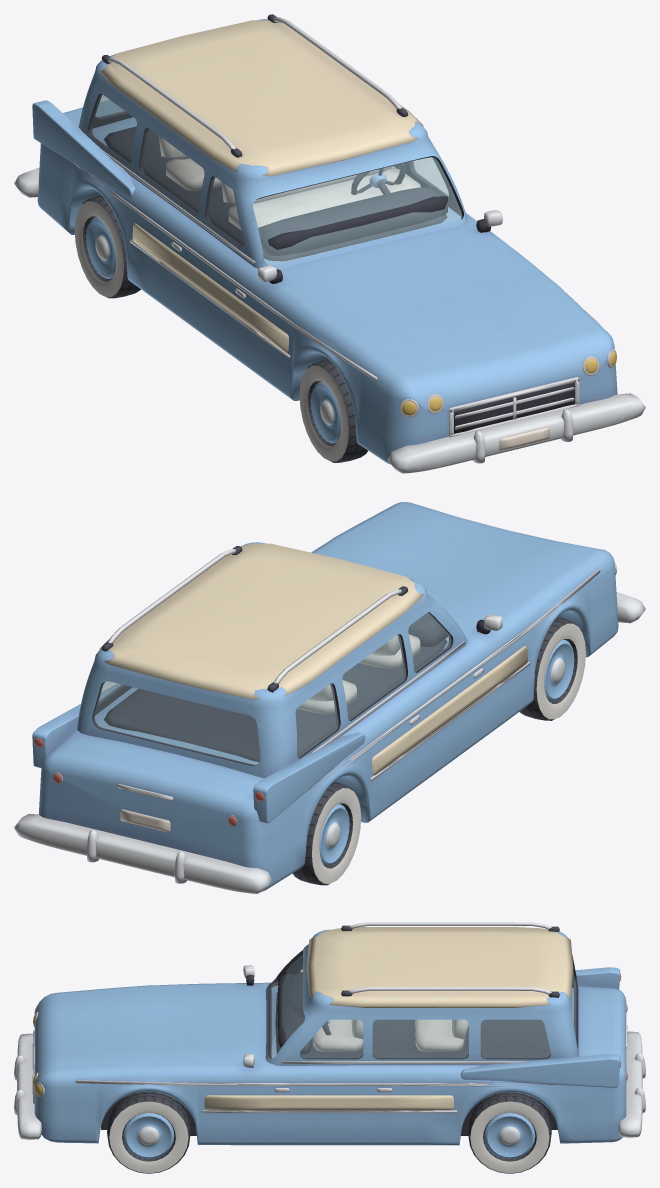
File: 1950s-station-wagon.glb
The picture shows the model from 3 angles, top to bottom: view 1: azimuth 30°, elevation 25°; view 2: azimuth 150°, elevation 25°; view 3: azimuth 270°, elevation 25°; orthographic projection. The views are drawn at different scales.
Visible parts, largest first — view 1: 1950s-station-wagon_body, 1950s-station-wagon_windows, 1950s-station-wagon_wheel_fr, 1950s-station-wagon_wheel_rr; view 2: 1950s-station-wagon_body, 1950s-station-wagon_windows, 1950s-station-wagon_wheel_rr, 1950s-station-wagon_wheel_fr; view 3: 1950s-station-wagon_body, 1950s-station-wagon_windows, 1950s-station-wagon_wheel_fl, 1950s-station-wagon_wheel_rl.
Boxes of the visible parts, box(x1,y1,x2,y2) form: 1950s-station-wagon_body: box(14, 14, 645, 473); 1950s-station-wagon_windows: box(90, 94, 461, 264); 1950s-station-wagon_wheel_fr: box(299, 359, 367, 462); 1950s-station-wagon_wheel_rr: box(74, 195, 140, 298); 1950s-station-wagon_body: box(14, 502, 645, 893); 1950s-station-wagon_windows: box(94, 612, 450, 765); 1950s-station-wagon_wheel_rr: box(292, 782, 361, 885); 1950s-station-wagon_wheel_fr: box(519, 617, 585, 720); 1950s-station-wagon_body: box(14, 922, 645, 1145); 1950s-station-wagon_windows: box(270, 955, 575, 1058); 1950s-station-wagon_wheel_fl: box(107, 1091, 190, 1173); 1950s-station-wagon_wheel_rl: box(468, 1092, 551, 1173).
Bounding box in the file's own units: 2 × 1.65 × 5.43.
22 materials, 5 textured.
